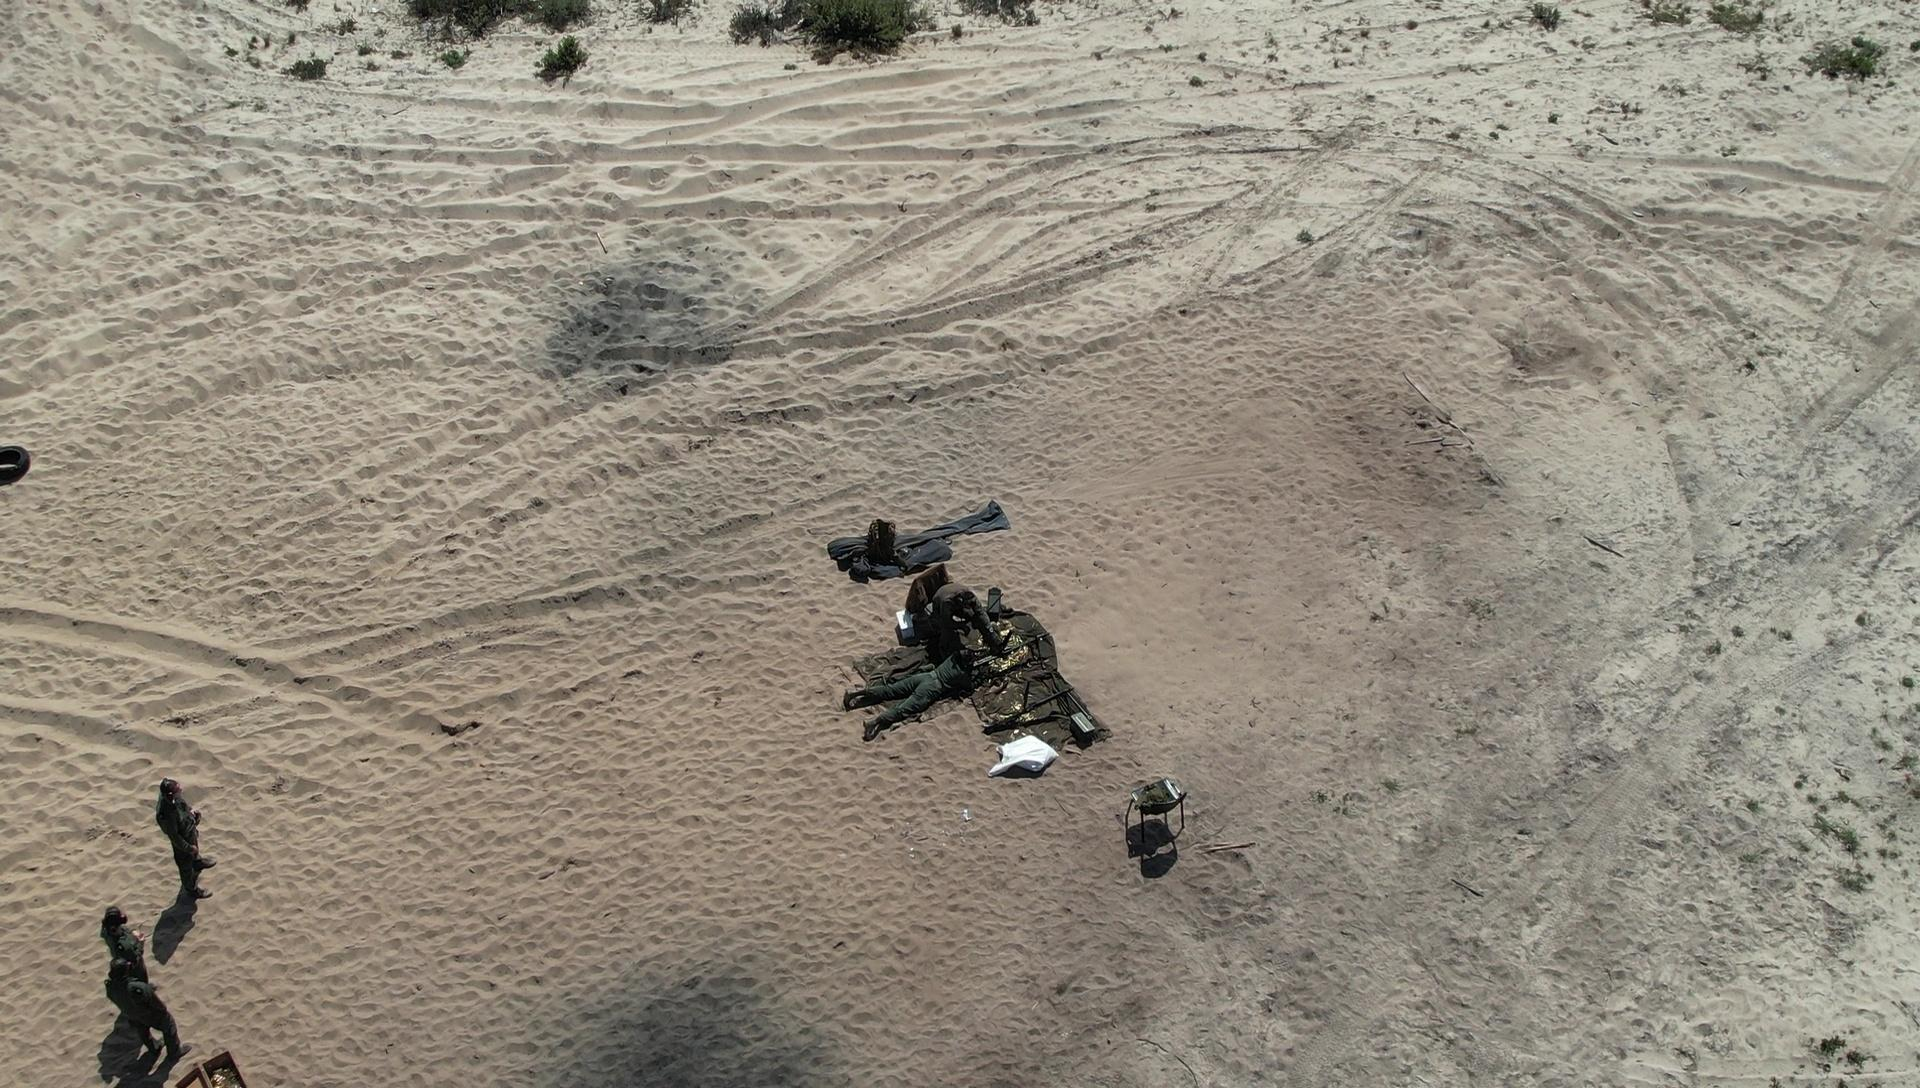Soldier: (861, 607, 1025, 732), (145, 779, 225, 922), (903, 566, 996, 679), (102, 964, 185, 1081), (100, 898, 160, 1008)
